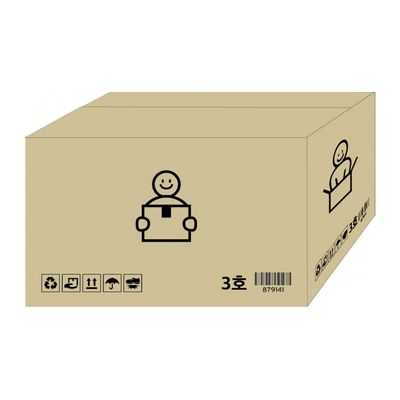undamaged: (26, 91, 378, 307)
